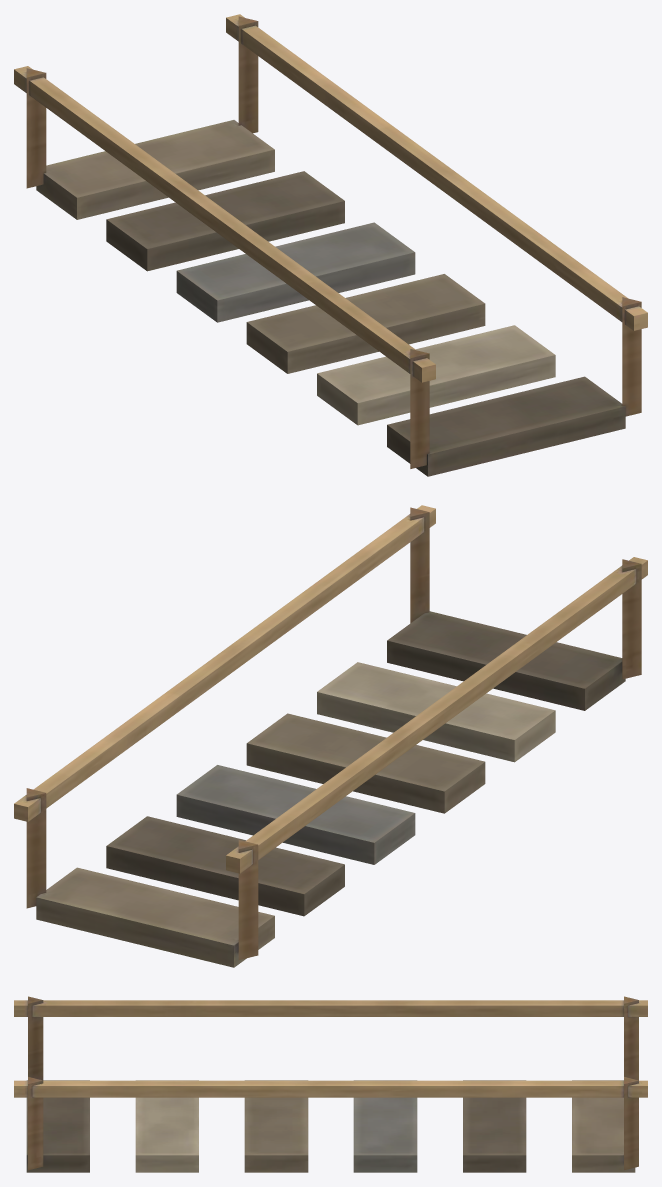
File: raft-walk-age10.glb
3 views of the same model, one above another, from view 1: azimuth 30°, elevation 25°; view 2: azimuth 150°, elevation 25°; view 3: azimuth 270°, elevation 25° (orthographic). The views are drawn at different scales.
Visible parts, largest first — view 1: raft-walk-age10; view 2: raft-walk-age10; view 3: raft-walk-age10.
Boxes of the visible parts, bbox=[...] form: raft-walk-age10: bbox=[14, 14, 647, 476]; raft-walk-age10: bbox=[14, 505, 647, 967]; raft-walk-age10: bbox=[14, 996, 647, 1172].
Size of the model in its own units: 0.3277 by 0.165 by 1.
Materials: 1 (1 with a texture image).
